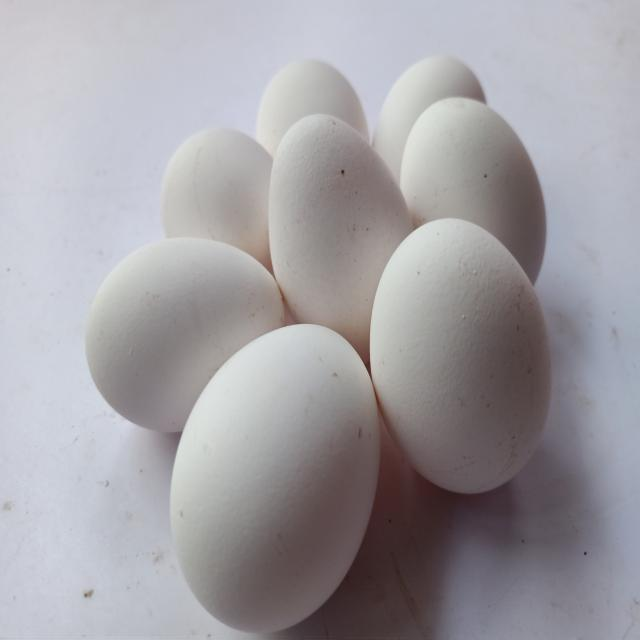Egg: (170, 324, 380, 633), (370, 218, 552, 494), (85, 237, 285, 432), (269, 113, 413, 362), (400, 97, 547, 283), (161, 128, 273, 273), (373, 55, 486, 183), (257, 58, 369, 156)
